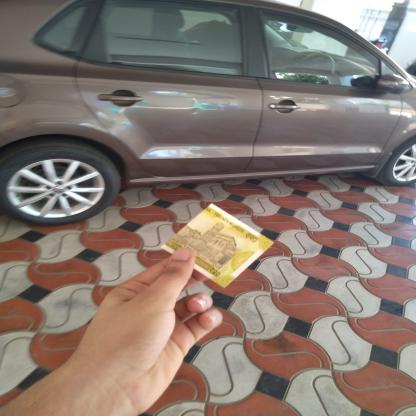New20Back: (167, 204, 261, 275)
